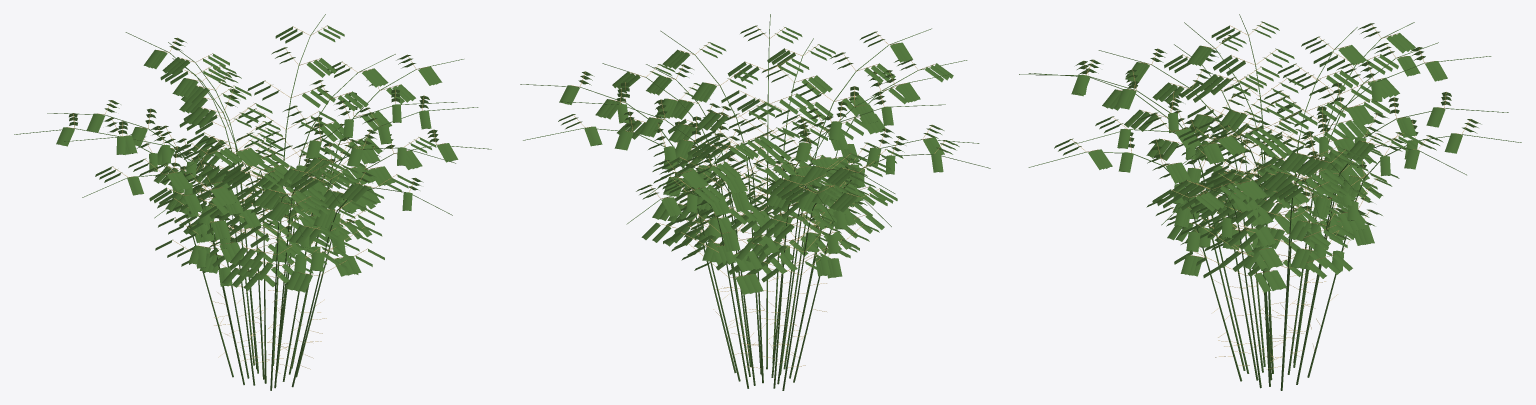
The model's file is bamboo_tre_gai.glb.
3 views of the same model, side by side, from view 1: azimuth 30°, elevation 25°; view 2: azimuth 150°, elevation 25°; view 3: azimuth 270°, elevation 25° (orthographic). The views are drawn at different scales.
Visible parts, largest first — view 1: bamboo_tre_gai; view 2: bamboo_tre_gai; view 3: bamboo_tre_gai.
Boxes of the visible parts, x1=… form: bamboo_tre_gai: x1=14, y1=14, x2=491, y2=390; bamboo_tre_gai: x1=520, y1=14, x2=990, y2=390; bamboo_tre_gai: x1=1019, y1=14, x2=1521, y2=390.
Size of the model in its own units: 20.96 by 13.74 by 20.36.
